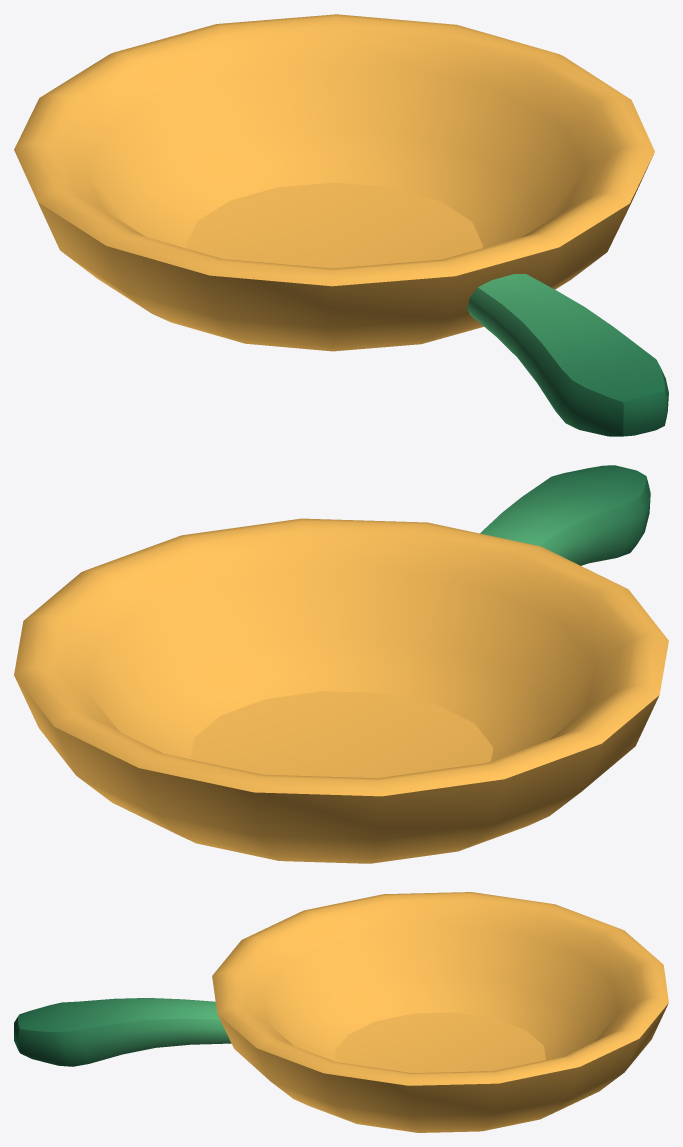
Rendered from PanDeep.fbx.
3 views of the same model, one above another, from view 1: azimuth 30°, elevation 25°; view 2: azimuth 150°, elevation 25°; view 3: azimuth 270°, elevation 25° (orthographic). The views are drawn at different scales.
Parts seen in each view (by area): view 1: DeepPan; view 2: DeepPan; view 3: DeepPan.
Part boxes in pixels (x1,y1,x2,y2): DeepPan: (14,14,668,436); DeepPan: (14,465,668,863); DeepPan: (14,892,668,1132).
Size of the model in its own units: 56.28 by 12.52 by 80.68.
